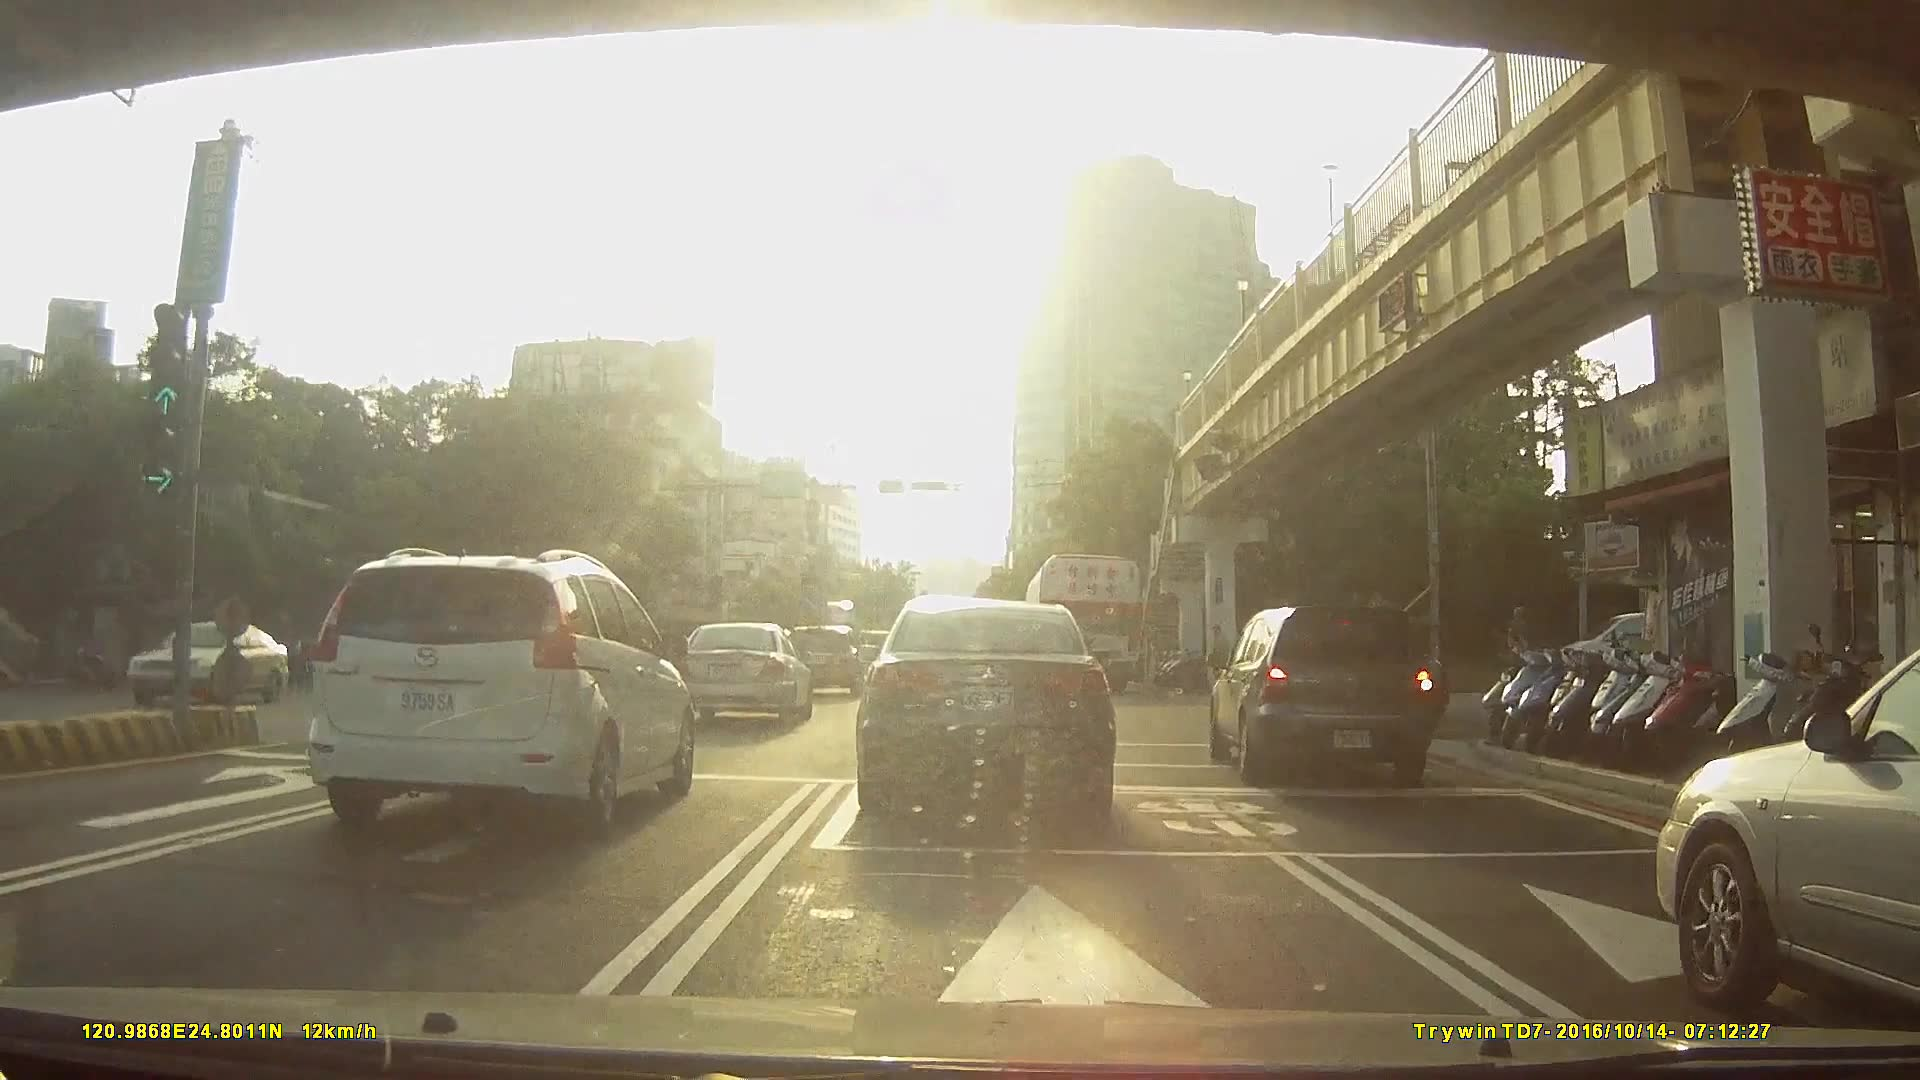pedestrian: (1208, 621, 1235, 685)
vehicle: (307, 544, 696, 832), (1657, 648, 1920, 1020), (853, 590, 1115, 822), (1205, 600, 1445, 788), (1026, 555, 1144, 696), (124, 620, 303, 708), (679, 621, 815, 727), (782, 624, 865, 698)
